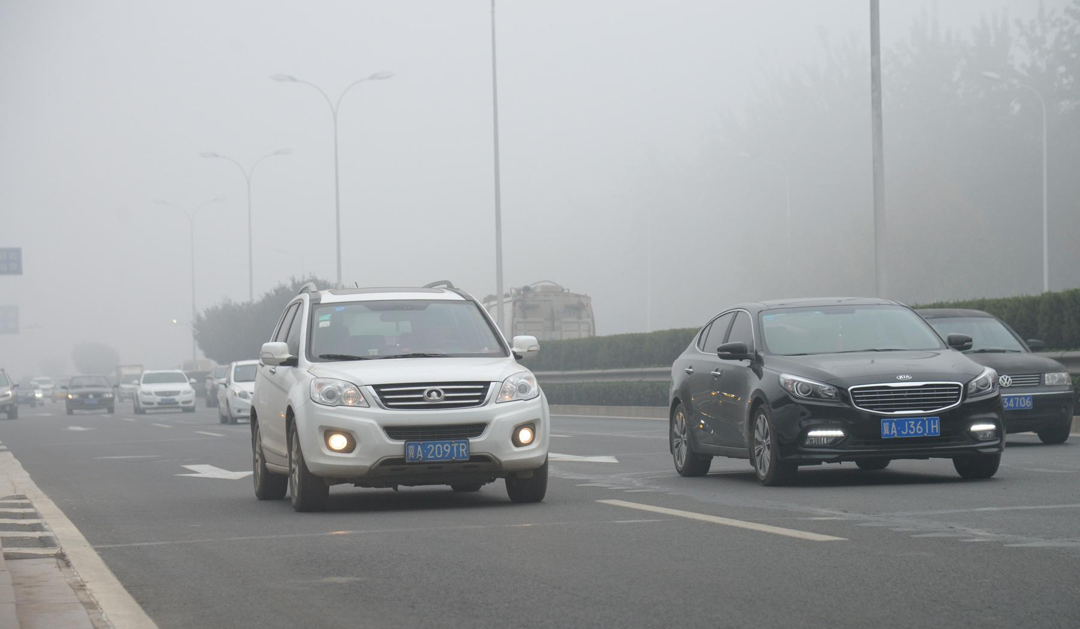bus: (460, 280, 601, 405), (113, 363, 148, 403)
car: (244, 277, 553, 513), (663, 295, 1004, 483), (818, 304, 1076, 446), (215, 358, 283, 427), (130, 367, 200, 414), (60, 374, 120, 416), (204, 364, 252, 407), (1, 366, 20, 421), (9, 379, 38, 409), (30, 376, 58, 403), (49, 378, 77, 403)
